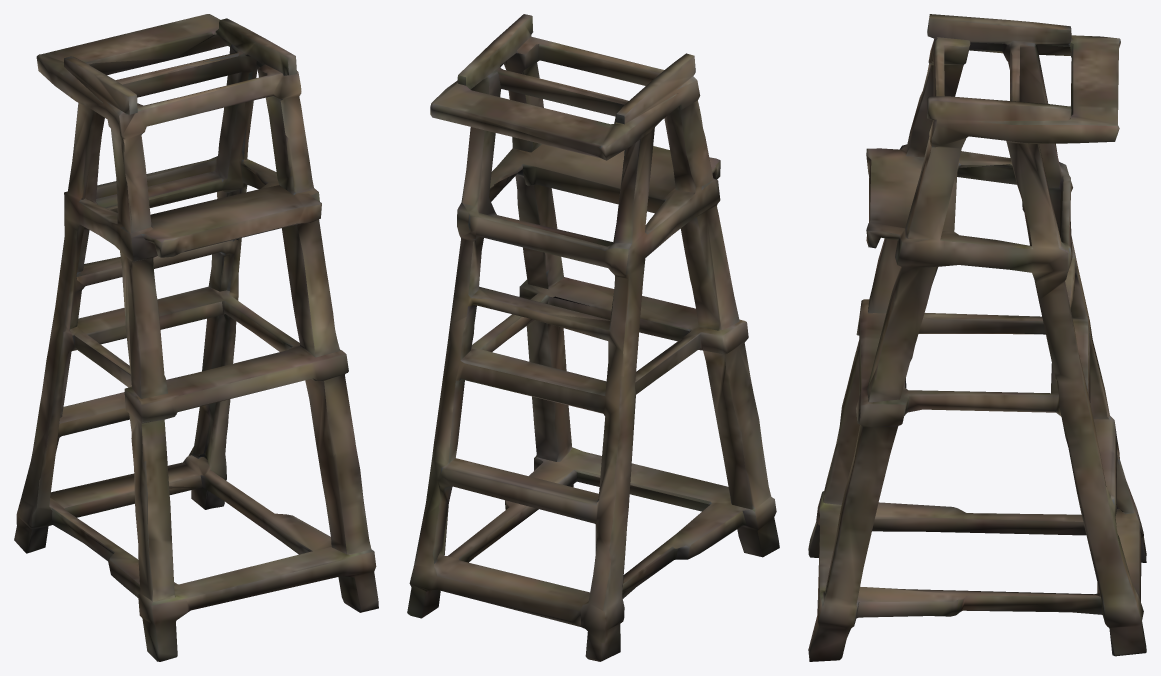
Rendered from worn-wood-scaffold-tower-v002.glb.
3 views of the same model, side by side, from view 1: azimuth 30°, elevation 25°; view 2: azimuth 150°, elevation 25°; view 3: azimuth 270°, elevation 25° (orthographic). The views are drawn at different scales.
Visible parts, largest first — view 1: worn-wood-scaffold-tower; view 2: worn-wood-scaffold-tower; view 3: worn-wood-scaffold-tower.
Part boxes in pixels (x1,y1,x2,y2): worn-wood-scaffold-tower: (14,14,378,661); worn-wood-scaffold-tower: (407,14,779,661); worn-wood-scaffold-tower: (808,14,1146,661).
Size of the model in its own units: 1.15 by 2.55 by 1.43.
Materials: 1 (1 with a texture image).
